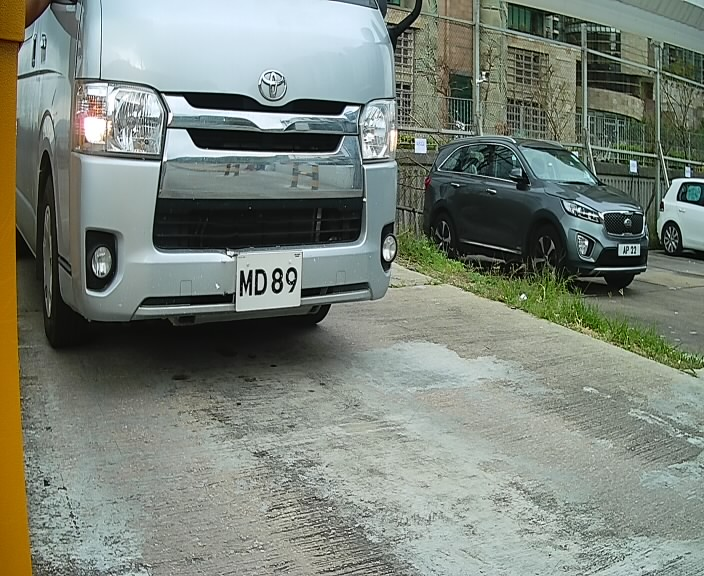Car: (15, 2, 431, 393)
License Plate: (225, 245, 313, 316)
